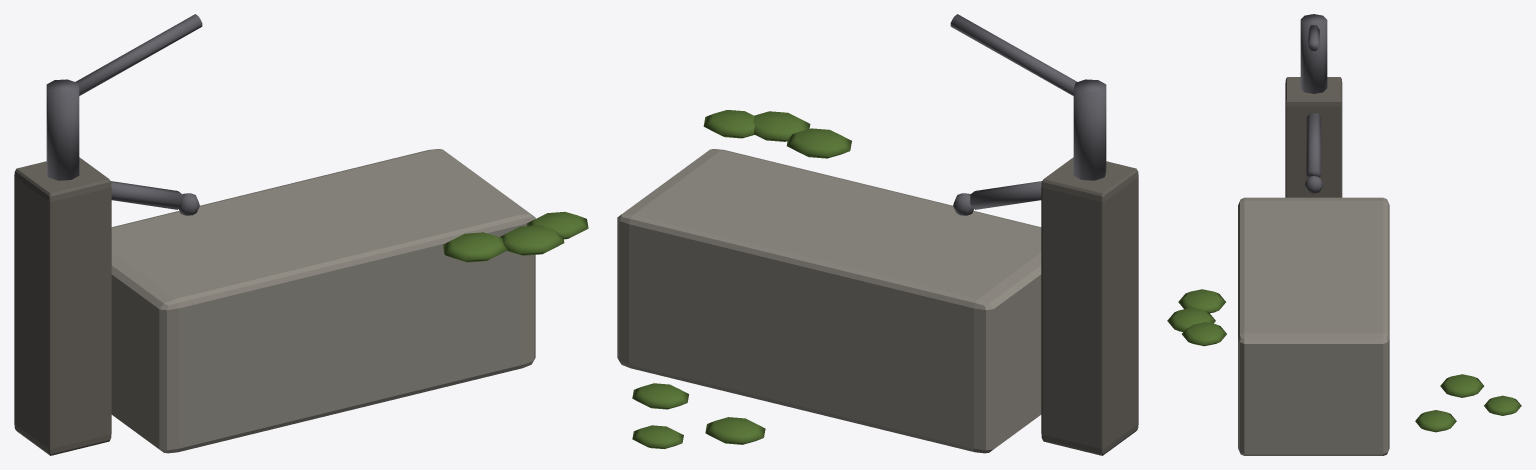
Rendered from brunnen_feld.glb.
3 renders of one model, left to right at view 1: azimuth 30°, elevation 25°; view 2: azimuth 150°, elevation 25°; view 3: azimuth 270°, elevation 25°, orthographic. The views are drawn at different scales.
Parts seen in each view (by area): view 1: Cube; view 2: Cube; view 3: Cube.
Part boxes in pixels (bbox=[...]): Cube: bbox=[14, 14, 588, 455]; Cube: bbox=[617, 14, 1138, 455]; Cube: bbox=[1167, 14, 1521, 455].
Size of the model in its own units: 2.32 by 1.77 by 1.87.
